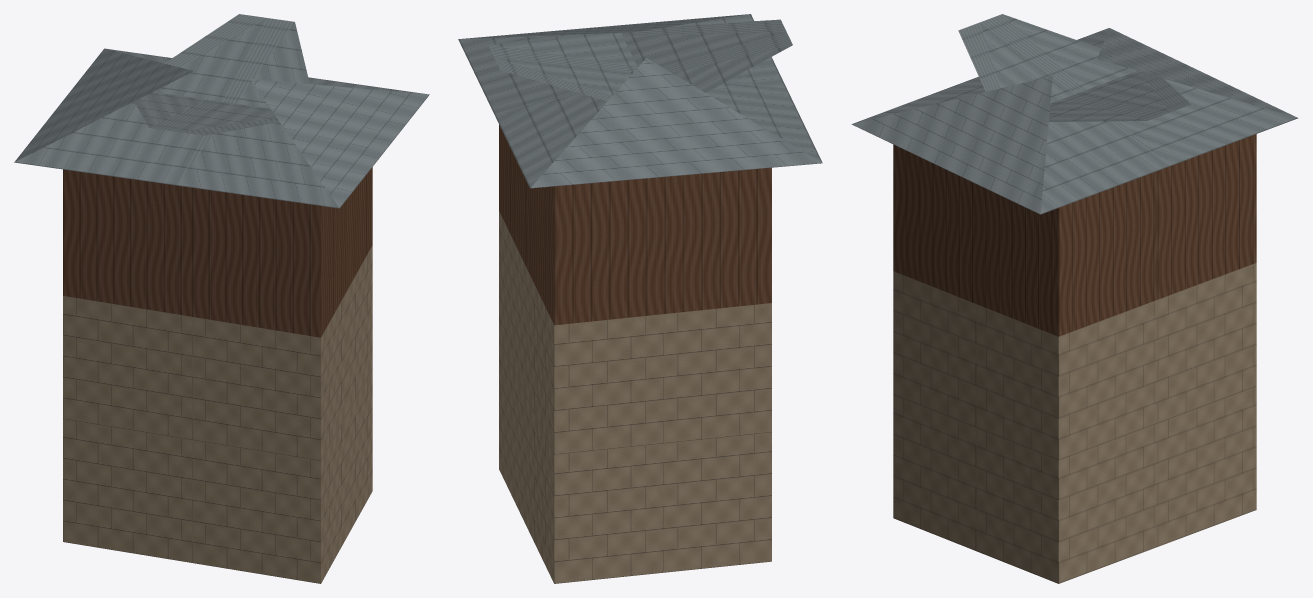
File: bld_c33_-32_446.gltf
3 views of the same model, side by side, from view 1: azimuth 30°, elevation 25°; view 2: azimuth 150°, elevation 25°; view 3: azimuth 270°, elevation 25° (orthographic). The views are drawn at different scales.
Visible parts, largest first — view 1: bld_c33_-32_446; view 2: bld_c33_-32_446; view 3: bld_c33_-32_446.
Boxes of the visible parts, left/top/right/bottom form: bld_c33_-32_446: left=14, top=14, right=429, bottom=583; bld_c33_-32_446: left=458, top=14, right=822, bottom=583; bld_c33_-32_446: left=851, top=14, right=1298, bottom=583.
Size of the model in its own units: 7.45 by 8.3 by 7.54.
Materials: 3 (3 with a texture image).
